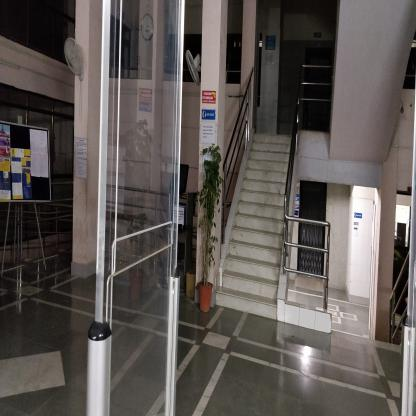stairs: (236, 226, 275, 322)
